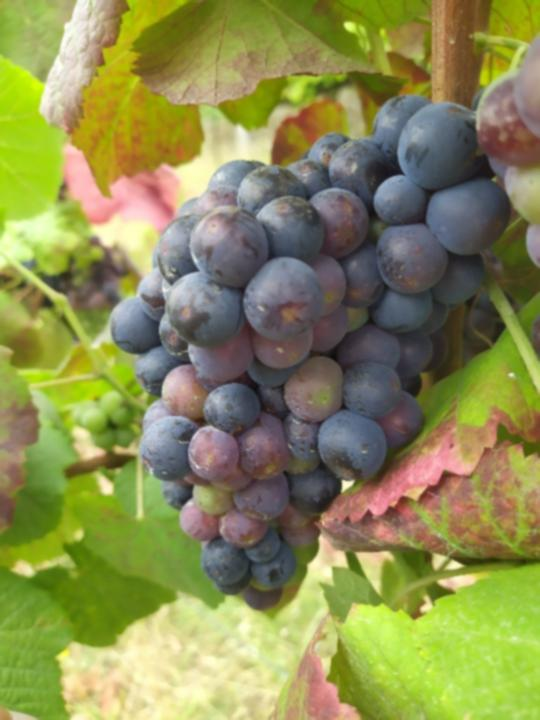grape: (103, 95, 516, 621)
